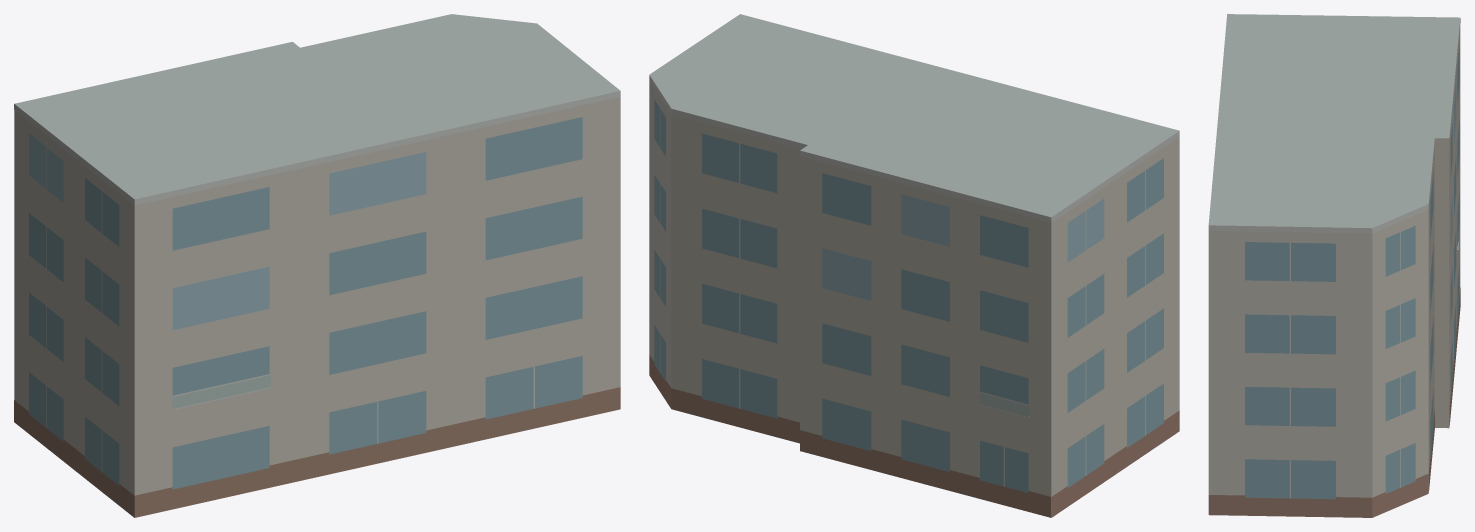
Rendered from survey-upis-32466628.glb.
3 renders of one model, left to right at view 1: azimuth 30°, elevation 25°; view 2: azimuth 150°, elevation 25°; view 3: azimuth 270°, elevation 25°, orthographic. The views are drawn at different scales.
Parts seen in each view (by area): view 1: survey-upis-32466628.tmp; view 2: survey-upis-32466628.tmp; view 3: survey-upis-32466628.tmp.
Part boxes in pixels (x1,y1,x2,y2): survey-upis-32466628.tmp: [14, 14, 620, 517]; survey-upis-32466628.tmp: [649, 14, 1179, 517]; survey-upis-32466628.tmp: [1208, 14, 1460, 517].
Size of the model in its own units: 20.7 by 13.05 by 10.29.
